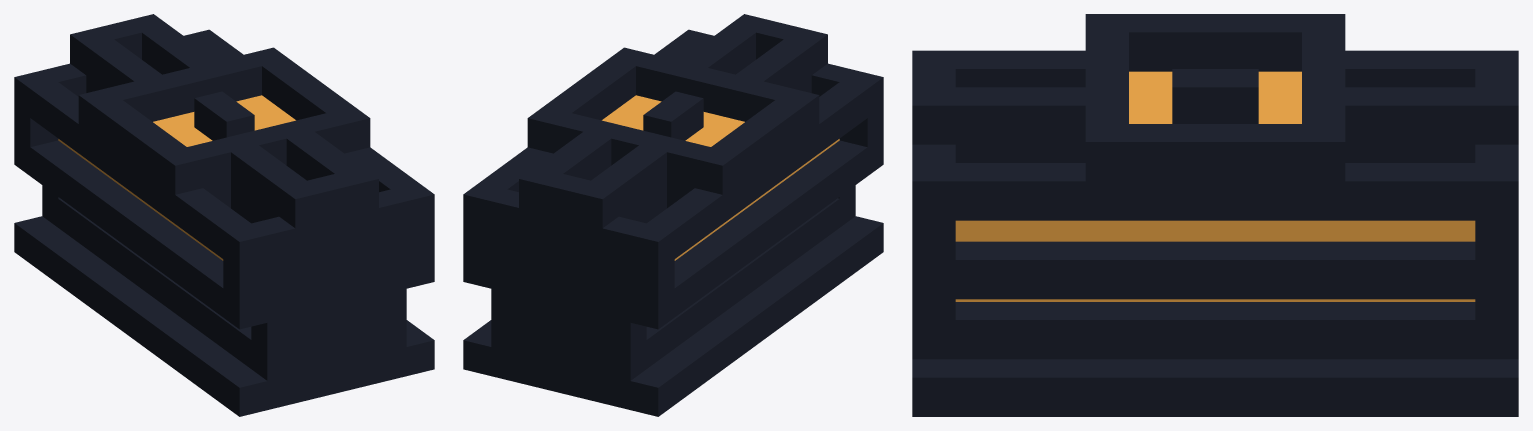
The model's file is CommandCenterSmall1.obj.
3 renders of one model, left to right at view 1: azimuth 30°, elevation 25°; view 2: azimuth 150°, elevation 25°; view 3: azimuth 270°, elevation 25°, orthographic. The views are drawn at different scales.
Bounding box in the file's own units: 7 × 7 × 14.
1 material, 1 textured.
